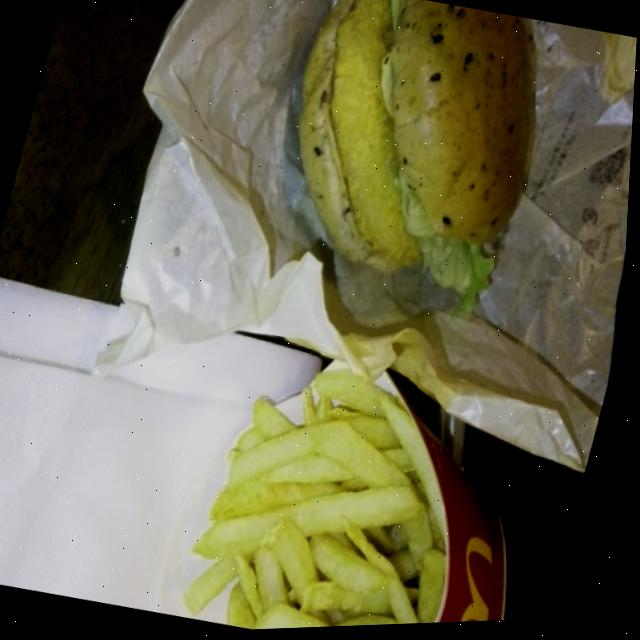汉堡快餐: (256, 0, 577, 321)
炸货点心: (172, 340, 578, 634)
